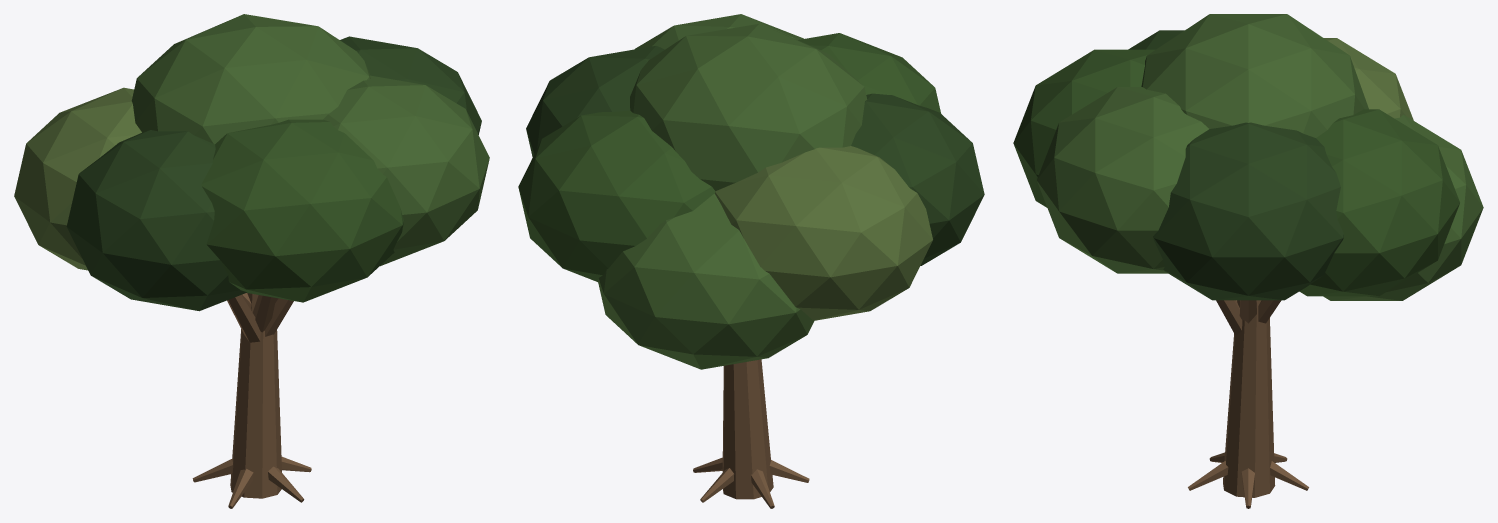
File: oak.glb
3 renders of one model, left to right at view 1: azimuth 30°, elevation 25°; view 2: azimuth 150°, elevation 25°; view 3: azimuth 270°, elevation 25°, orthographic. The views are drawn at different scales.
Visible parts, largest first — view 1: SM_oak; view 2: SM_oak; view 3: SM_oak.
Boxes of the visible parts, x1,y1,x2,y2 form: SM_oak: (14,14,489,508); SM_oak: (518,14,984,508); SM_oak: (1013,14,1483,508).
Bounding box in the file's own units: 5.61 × 6.11 × 5.63.
